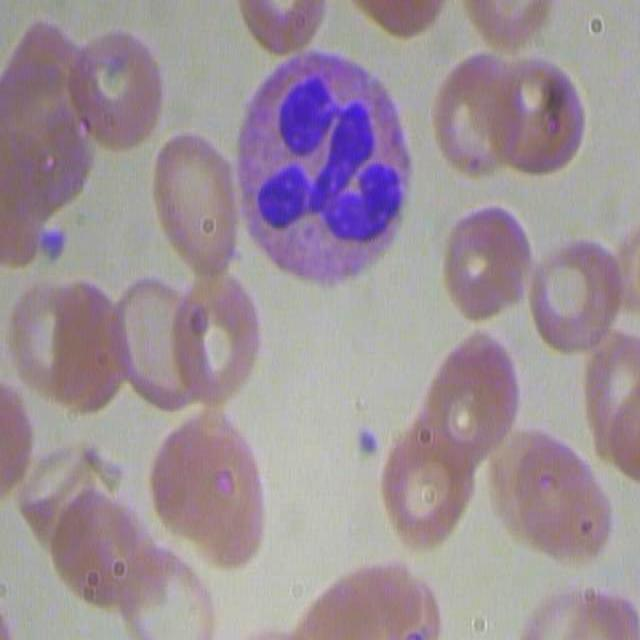RBC: (130, 415, 270, 580), (4, 260, 127, 420), (0, 12, 93, 212), (20, 463, 154, 588), (494, 433, 616, 570), (104, 270, 211, 426), (410, 327, 520, 476), (63, 12, 170, 157), (439, 192, 542, 330), (520, 226, 623, 360), (153, 127, 245, 276), (490, 51, 590, 186), (298, 566, 475, 640), (168, 272, 264, 404), (375, 429, 474, 550), (432, 51, 518, 189), (121, 544, 224, 638), (583, 325, 640, 478), (241, 0, 330, 50), (343, 0, 448, 40)
WBC: (234, 44, 412, 299)
platelets: (33, 224, 85, 262), (355, 426, 384, 459)
